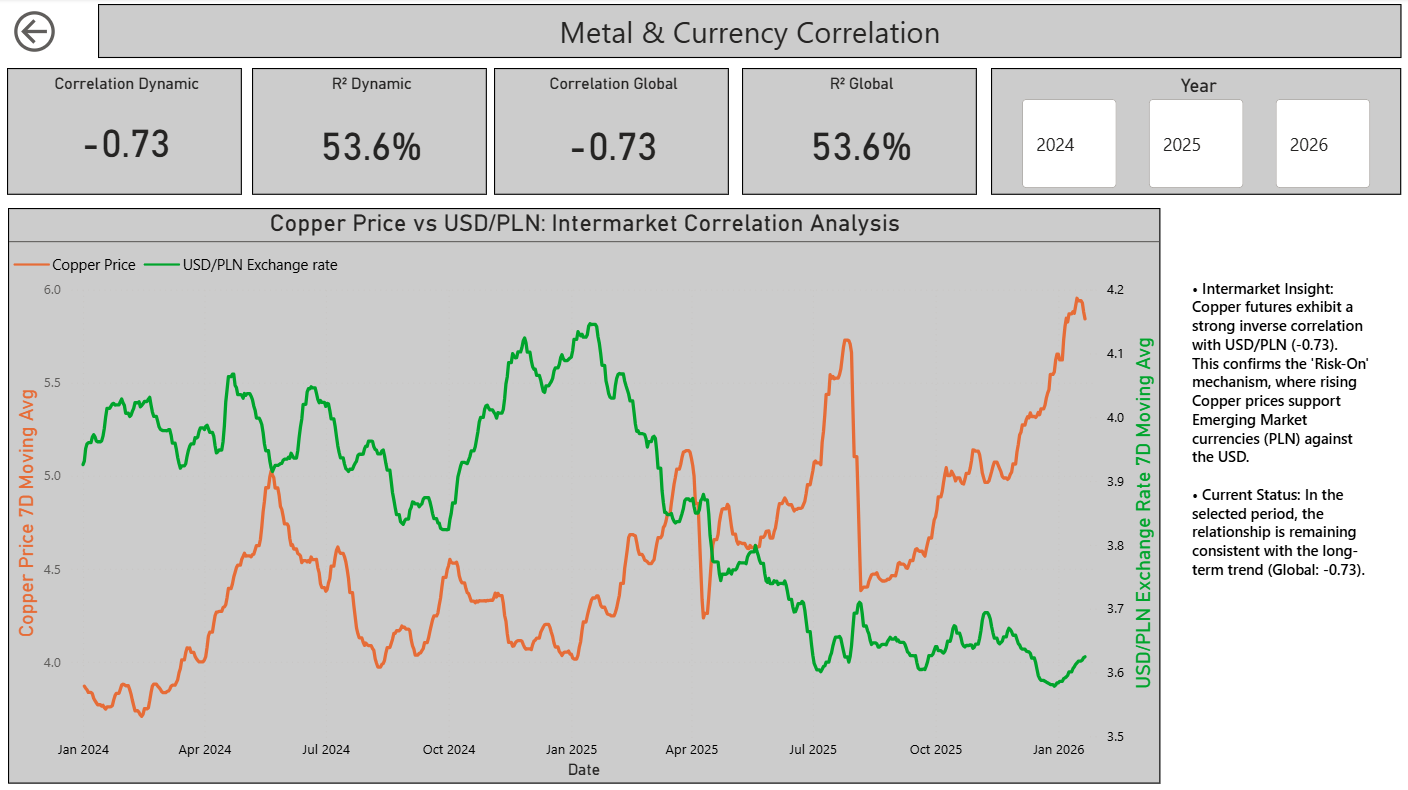

What the dashboard file says about the page in this screenshot:
{"tool":"powerbi","page":{"name":"Metal & Currency Correlation","canvas":[1280,720],"ordinal":3},"visuals":[{"type":"card","title":"Correlation Dynamic","fields":{"Values":["_Measures.Correlation Copper vs USD_PLN"]},"box":[8.2,63.5,213,115.3],"z":0},{"type":"advancedSlicerVisual","fields":{"Values":["DATE_TABLE.Date.Variation.Date Hierarchy.Year"]},"box":[900.3,63.5,372.3,115.3],"z":1000},{"type":"card","title":"Correlation Global","fields":{"Values":["_Measures.Correlation Global"]},"box":[449.8,63.5,213,115.3],"z":2000},{"type":"lineChart","title":"Copper Price vs USD/PLN: Intermarket Correlation Analysis","fields":{"Y":["_Measures.Copper AVG 7D FILTER"],"Y2":["_Measures.USD_PLN AVG 7D FILTER"],"Category":["DATE_TABLE.Date"]},"box":[9.1,190.4,1044.6,522.3],"z":3000},{"type":"card","title":"R² Global","fields":{"Values":["_Measures.R^2 Global Copper"]},"box":[674.5,63.5,213,115.3],"z":4000},{"type":"card","title":"R² Dynamic","fields":{"Values":["_Measures.R^2 Dynamic Copper"]},"box":[230,63.5,213,115.3],"z":5000},{"type":"textbox","box":[90.7,5.4,1182.5,49],"z":6000},{"type":"cardVisual","fields":{"Data":["_Measures.Executive_Summary_Copper"]},"box":[1053.3,222.8,226.7,497.3],"z":7000},{"type":"actionButton","box":[9.1,6.3,81.6,48.1],"z":8000}]}

Visuals, with their boxes in screenshot pixels (x1, y1, x2, y2), scaled from the page's 1280x720 canvas onto the 1408x790 screenshot:
"Correlation Dynamic" card: select_region(9, 70, 243, 196)
advancedSlicerVisual - DATE_TABLE.Date.Variation.Date Hierarchy.Year: select_region(990, 70, 1400, 196)
"Correlation Global" card: select_region(495, 70, 729, 196)
"Copper Price vs USD/PLN: Intermarket Correlation Analysis" lineChart: select_region(10, 209, 1159, 782)
"R² Global" card: select_region(742, 70, 976, 196)
"R² Dynamic" card: select_region(253, 70, 487, 196)
textbox: select_region(100, 6, 1401, 60)
cardVisual - _Measures.Executive_Summary_Copper: select_region(1159, 244, 1407, 789)
actionButton: select_region(10, 7, 100, 60)
